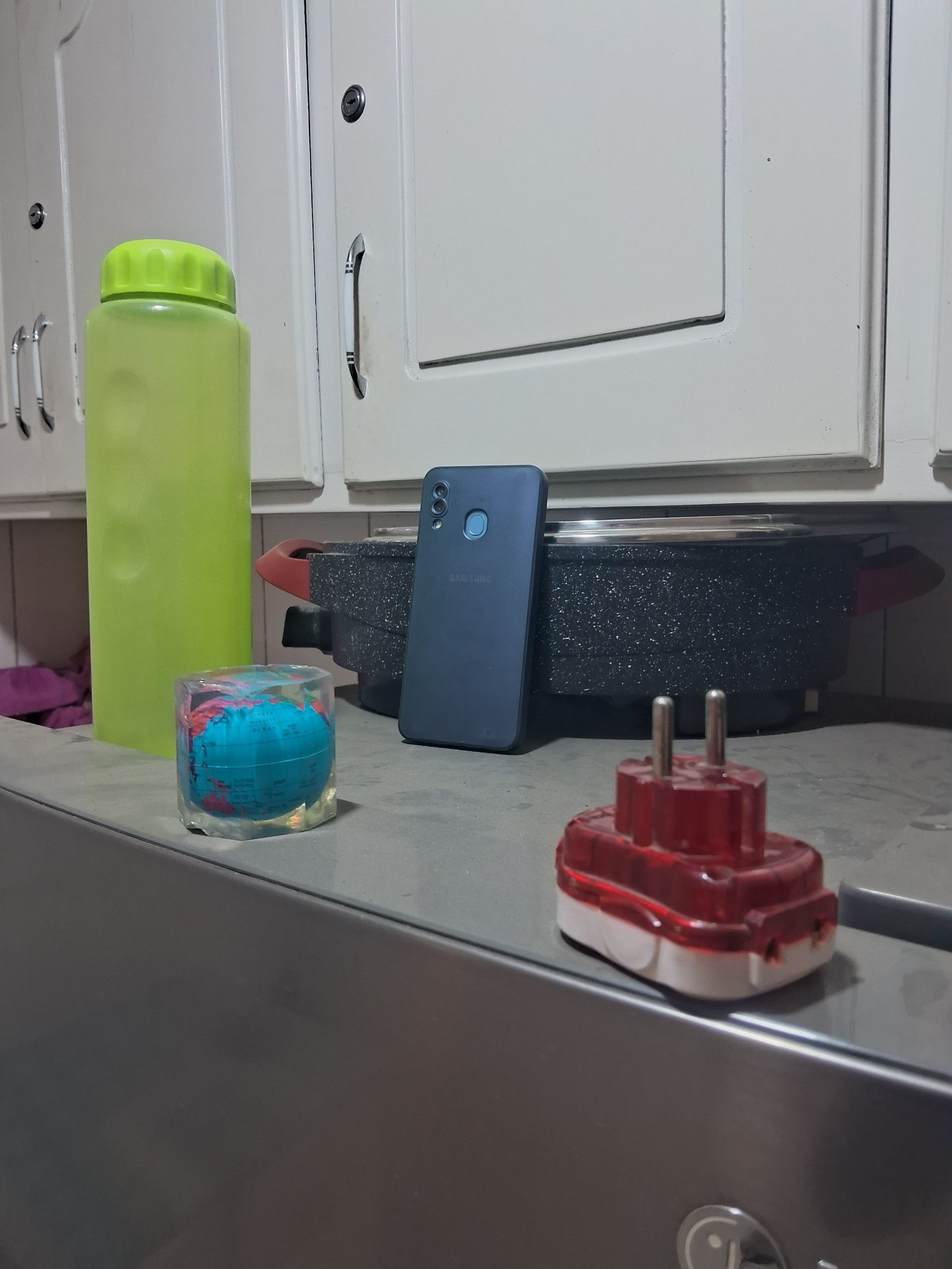Multi_adapter: (551, 676, 846, 1016)
Smart_phone: (392, 459, 550, 755)
Water_bottle: (76, 229, 260, 752)
world_globe: (166, 660, 346, 844)
